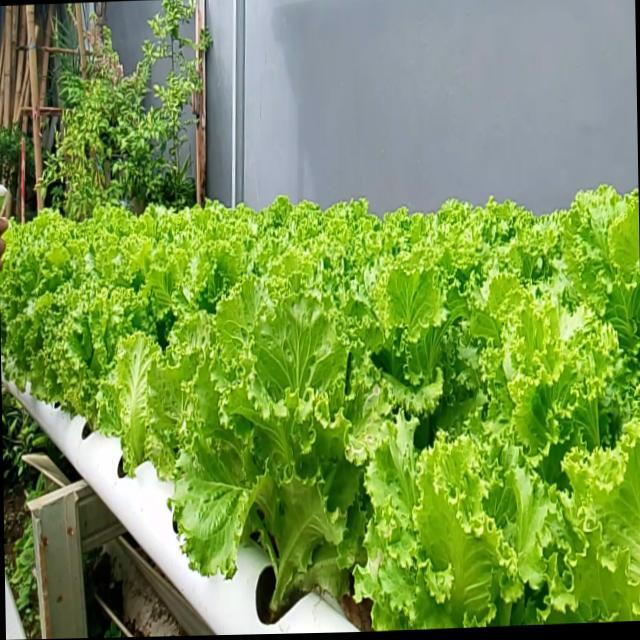Mature: (0, 193, 640, 631), (156, 295, 381, 632), (31, 286, 139, 451)
